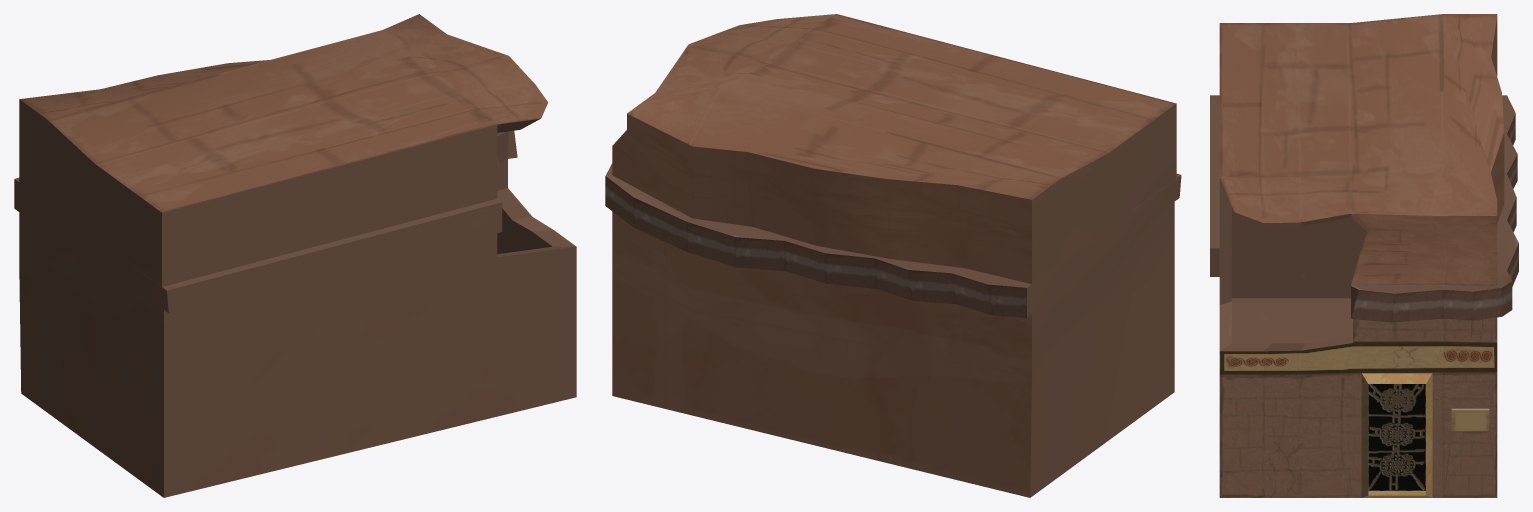
The model's file is Building05.fbx.
The picture shows the model from 3 angles, left to right: view 1: azimuth 30°, elevation 25°; view 2: azimuth 150°, elevation 25°; view 3: azimuth 270°, elevation 25°; orthographic projection. The views are drawn at different scales.
Parts seen in each view (by area): view 1: theFourBuildings:polySurface128; view 2: theFourBuildings:polySurface128; view 3: theFourBuildings:polySurface128.
Boxes of the visible parts, left/top/right/bottom form: theFourBuildings:polySurface128: left=14, top=14, right=576, bottom=497; theFourBuildings:polySurface128: left=605, top=14, right=1181, bottom=497; theFourBuildings:polySurface128: left=1210, top=14, right=1518, bottom=497.
Bounding box in the file's own units: 167 × 112 × 107.
